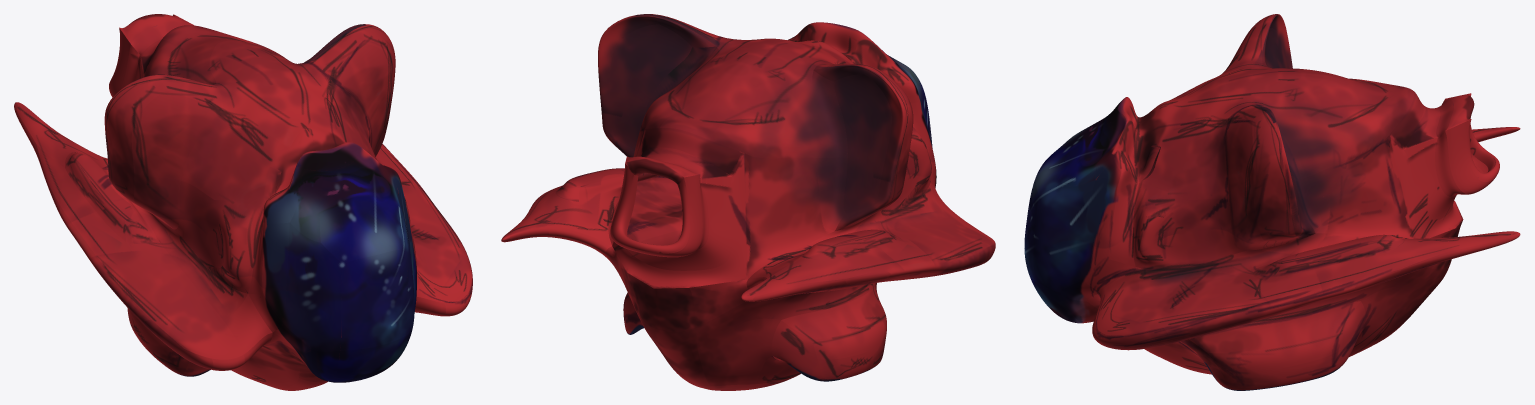
The model's file is KamiShipFBXBLEND.fbx.
3 views of the same model, side by side, from view 1: azimuth 30°, elevation 25°; view 2: azimuth 150°, elevation 25°; view 3: azimuth 270°, elevation 25° (orthographic). The views are drawn at different scales.
Visible parts, largest first — view 1: pSphere2; view 2: pSphere2; view 3: pSphere2.
Part boxes in pixels (x1,y1,x2,y2): pSphere2: (14, 14, 472, 390); pSphere2: (501, 14, 995, 390); pSphere2: (1024, 14, 1520, 390).
Size of the model in its own units: 1885 by 1735 by 2545.
Materials: 1 (1 with a texture image).
